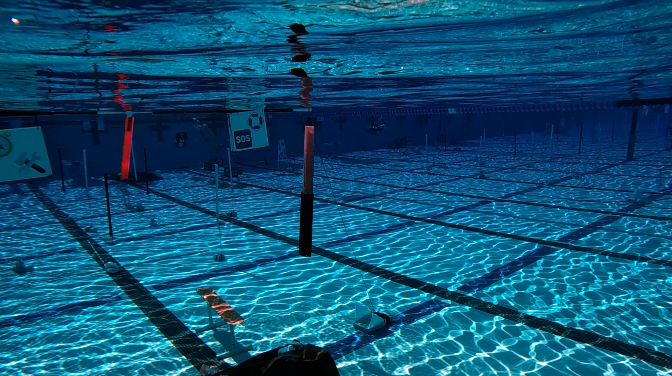pathmarker: (198, 286, 242, 325)
sandbag: (205, 343, 338, 375)
